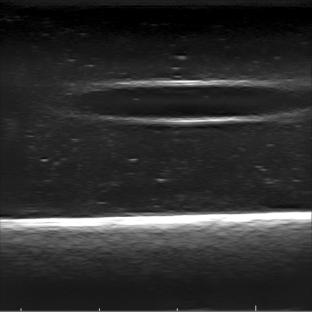vessel: (75, 78, 305, 126)
